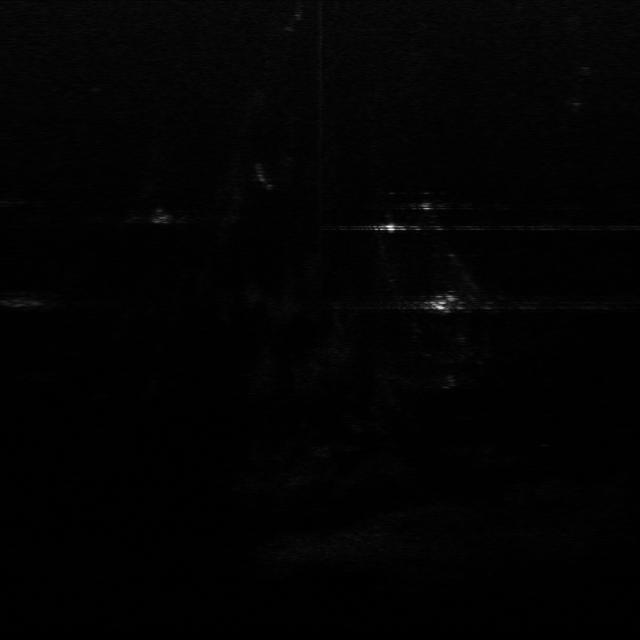rov: (427, 291, 469, 313)
